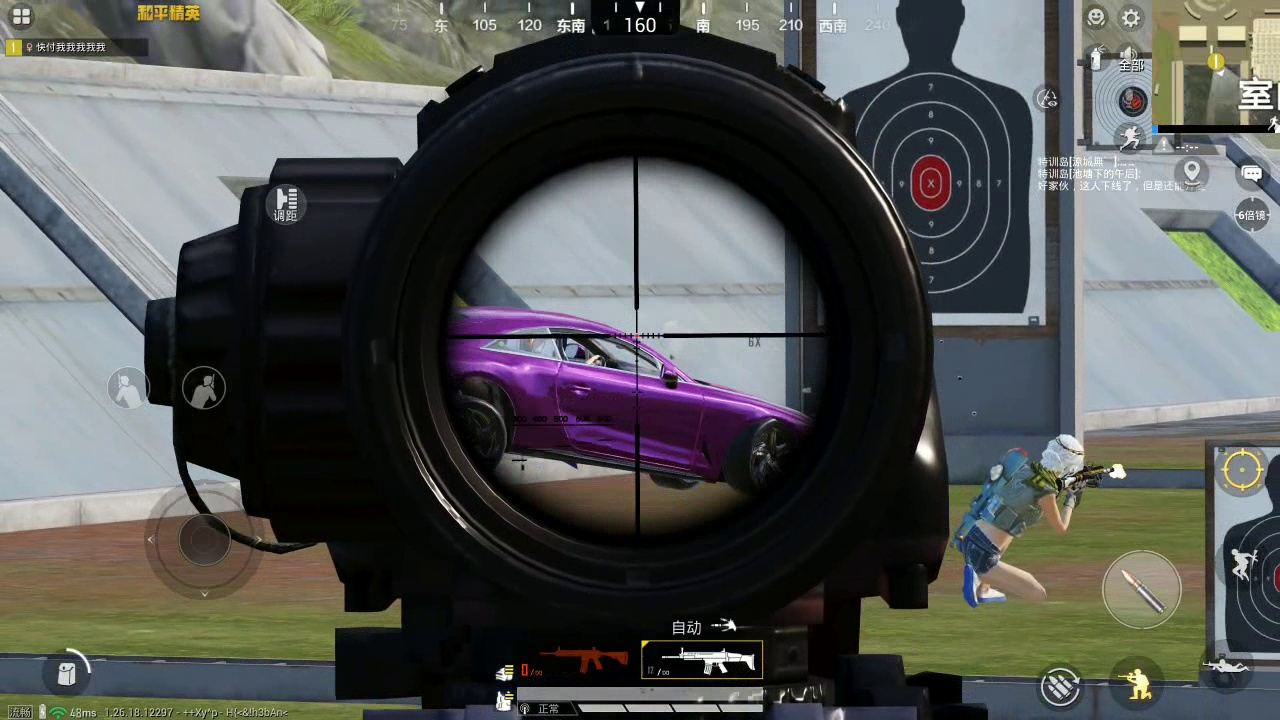enemy: (961, 432, 1083, 613)
